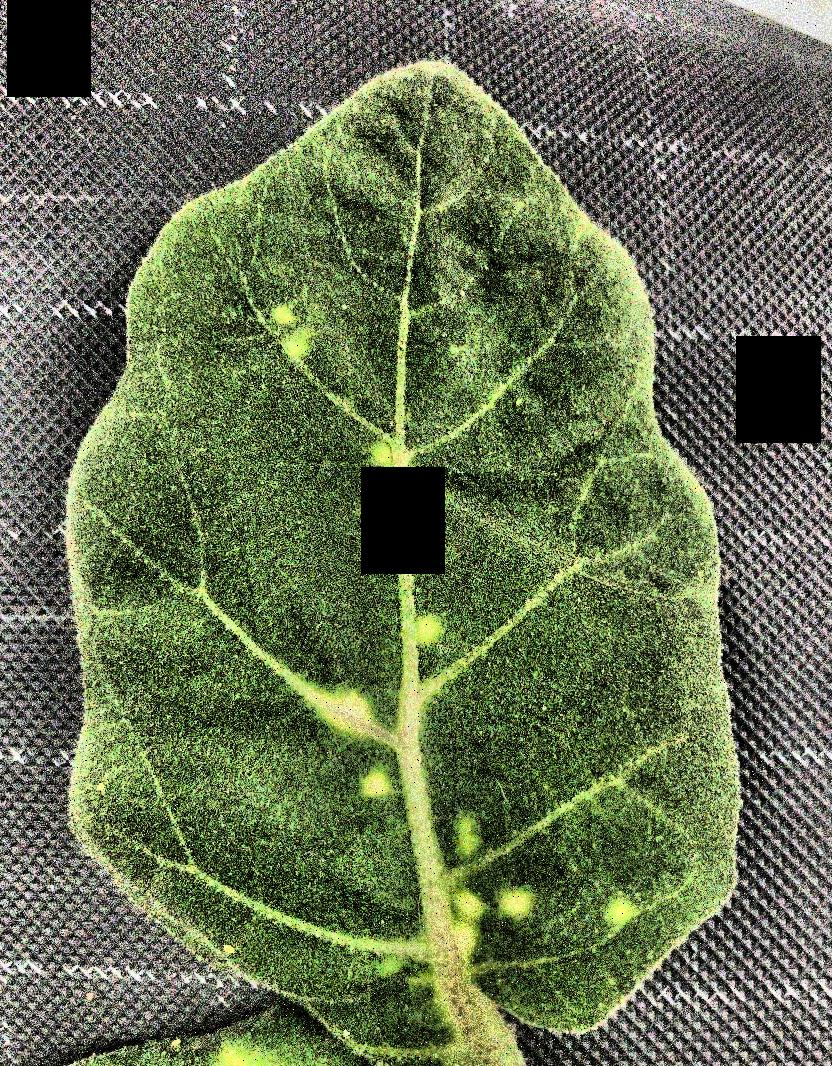HEALTHY: (1, 0, 832, 1066)
